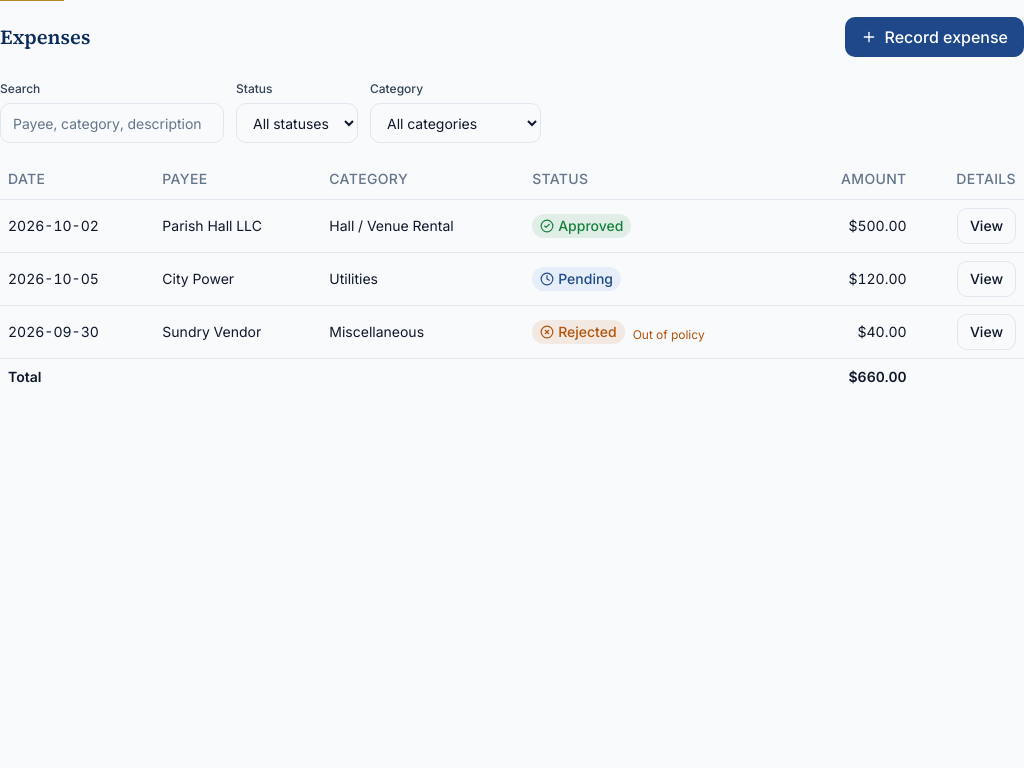
Test: ExpensesLedgerPage (story 5.5) › shows the full rejection reason and decided-at in the detail dialog for a rejected expense
Expected: the table is shown, [0, 159, 1023, 394]
Step 1. Click the button with aria-label "view details for sundry vendor" → coordinates (986, 332), box [957, 314, 1016, 350]
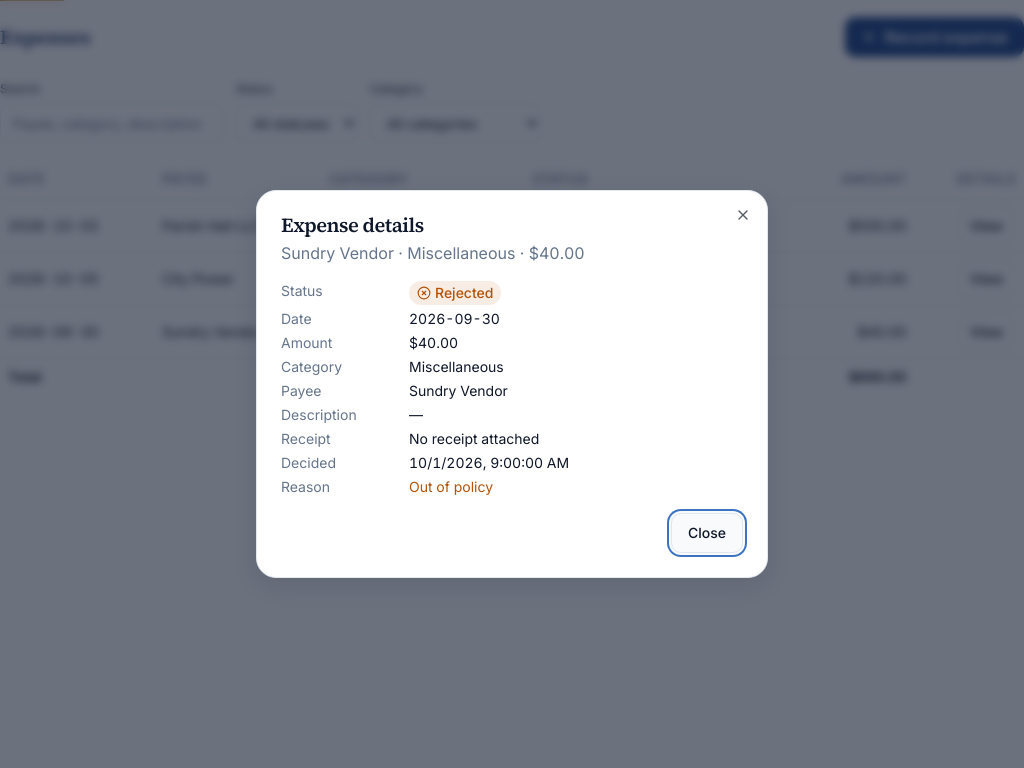
Expected: the text "Reason" is shown, [281, 478, 330, 495]
Expected: the text "Out of policy" is shown, [409, 478, 493, 495]
Expected: the text "Decided" is shown, [281, 454, 336, 471]
